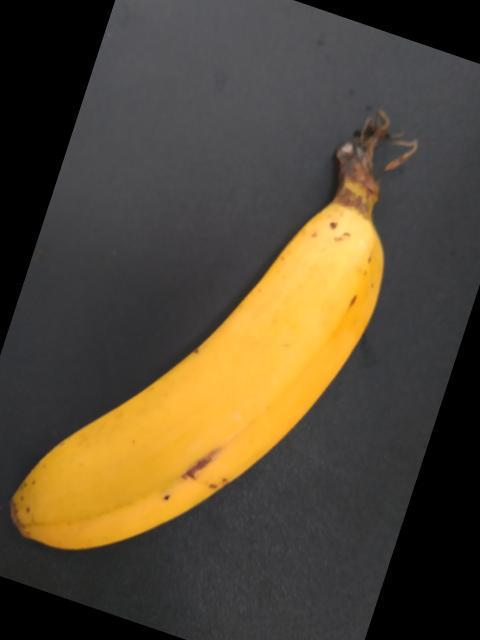freshripe: (0, 193, 377, 558)
